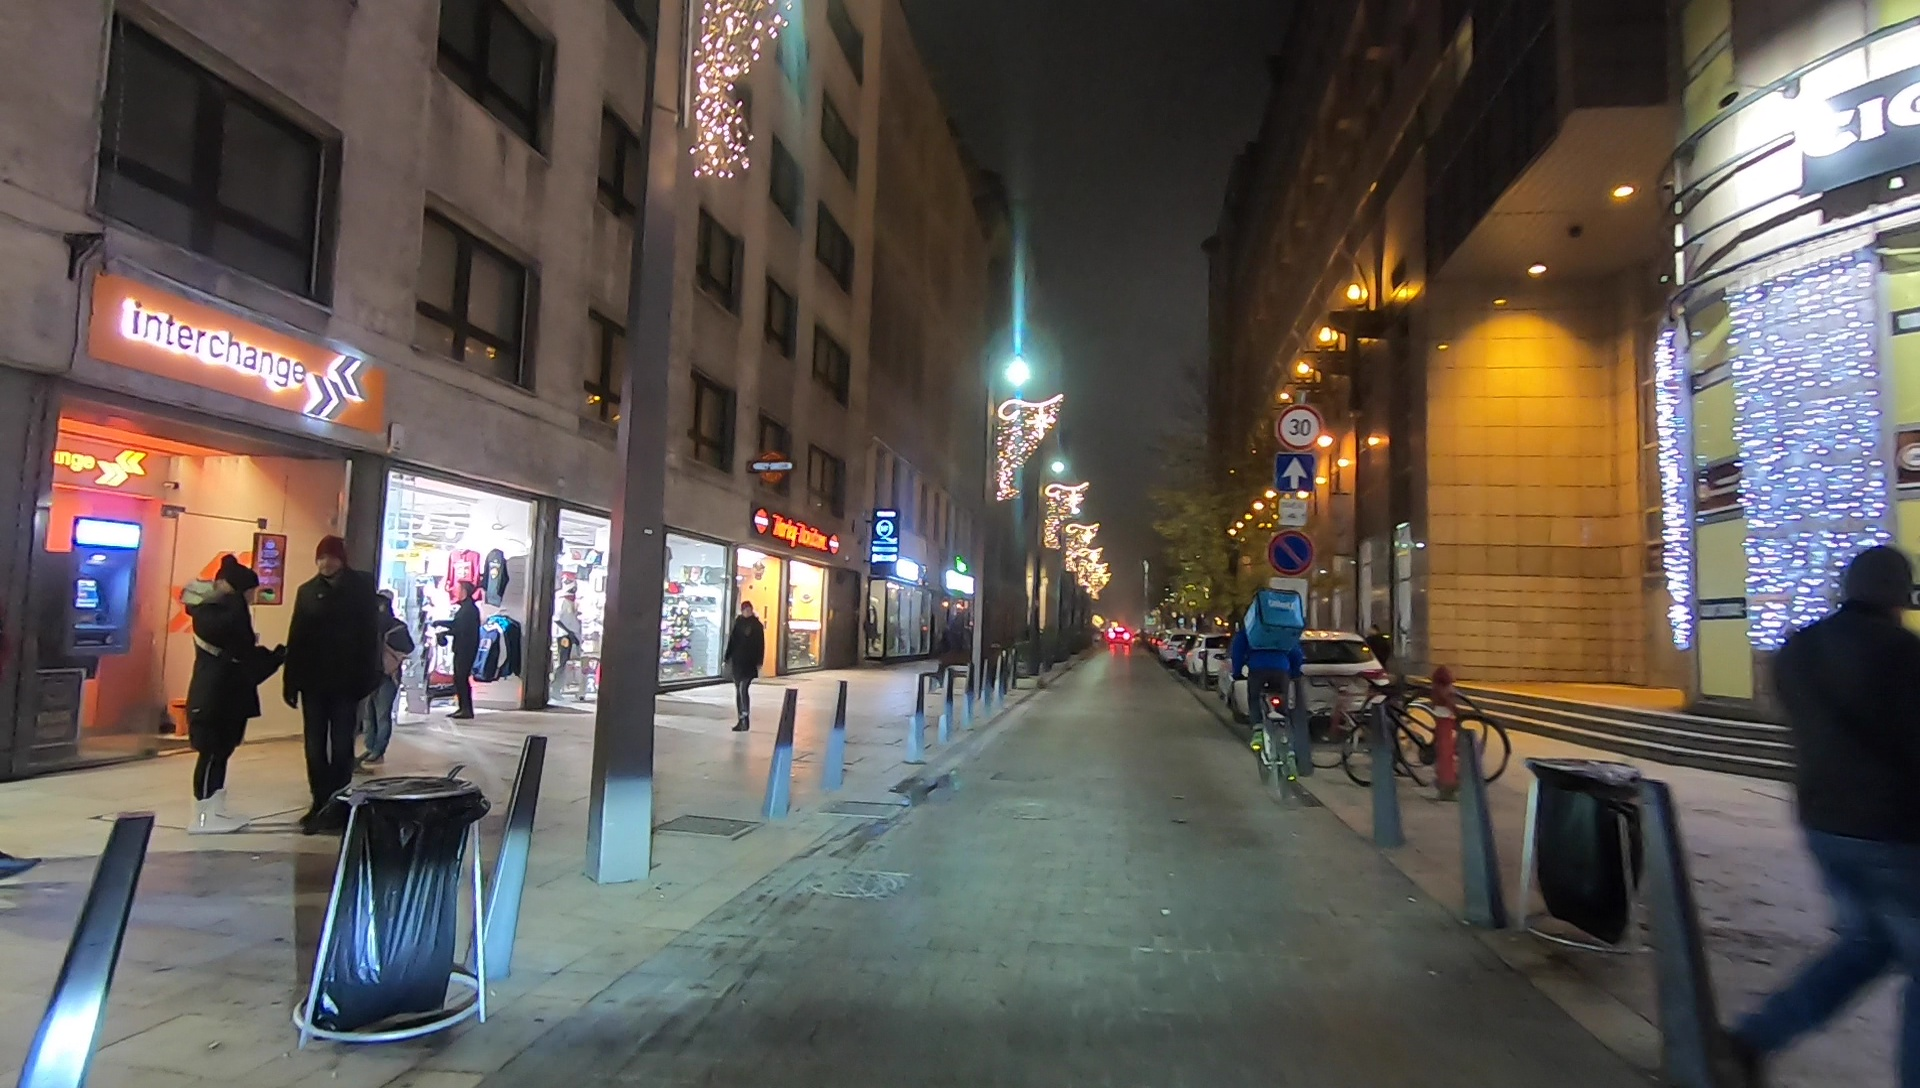person: (1723, 554, 1920, 1068), (164, 554, 278, 841), (293, 532, 371, 832), (354, 582, 406, 767), (721, 602, 765, 724), (439, 582, 478, 715)
